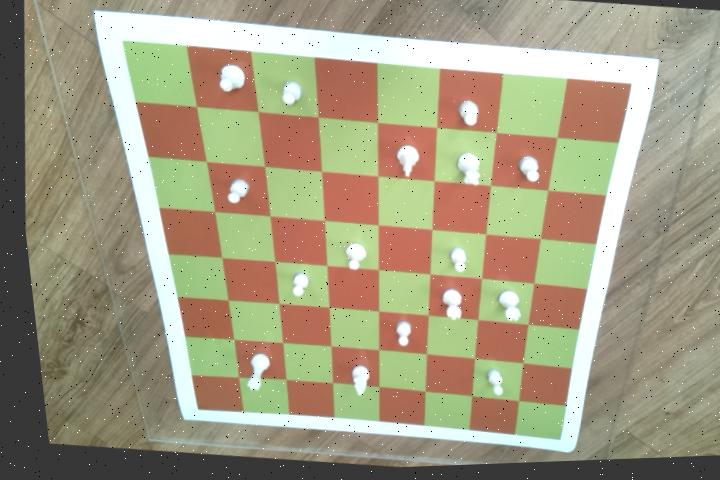chessboard-detect: (120, 41, 629, 444)
